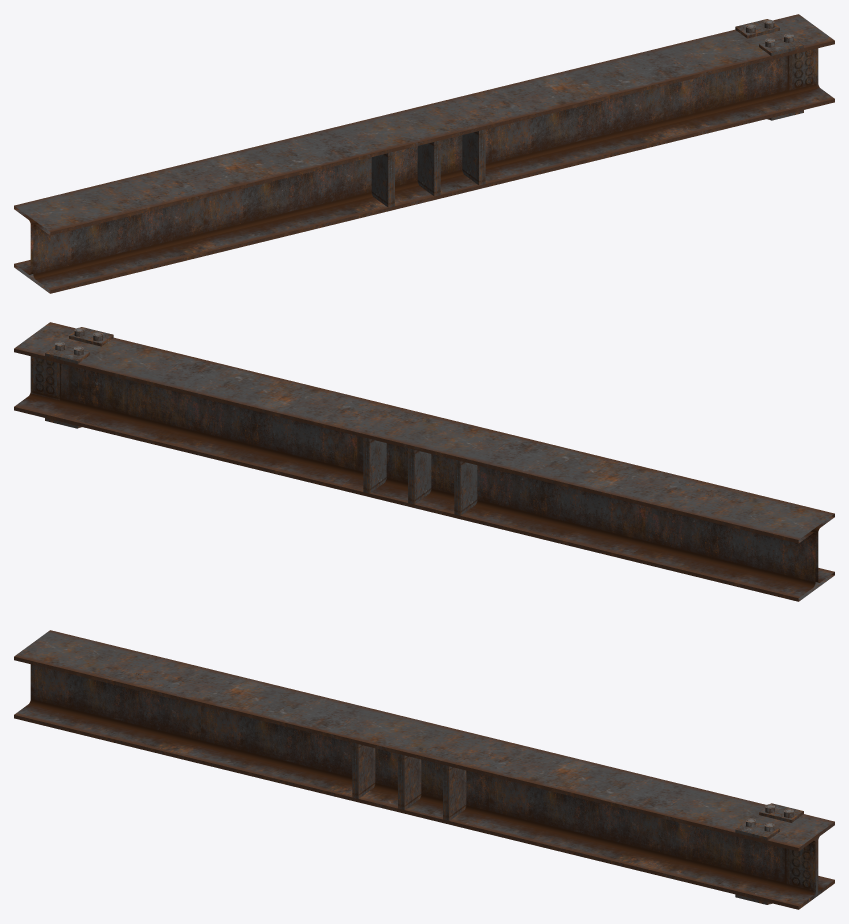
The model's file is Beam_03a_snaps005.fbx.
The picture shows the model from 3 angles, top to bottom: view 1: azimuth 30°, elevation 25°; view 2: azimuth 150°, elevation 25°; view 3: azimuth 330°, elevation 25°; orthographic projection.
Visible parts, largest first — view 1: Beam_03a_snaps005_LOD0; view 2: Beam_03a_snaps005_LOD0; view 3: Beam_03a_snaps005_LOD0.
Boxes of the visible parts, x1,y1,x2,y2 form: Beam_03a_snaps005_LOD0: (14, 14, 834, 293); Beam_03a_snaps005_LOD0: (14, 322, 834, 601); Beam_03a_snaps005_LOD0: (14, 630, 834, 909).
Size of what is drawn, in the model's own units: 480 by 45.09 by 38.39.
